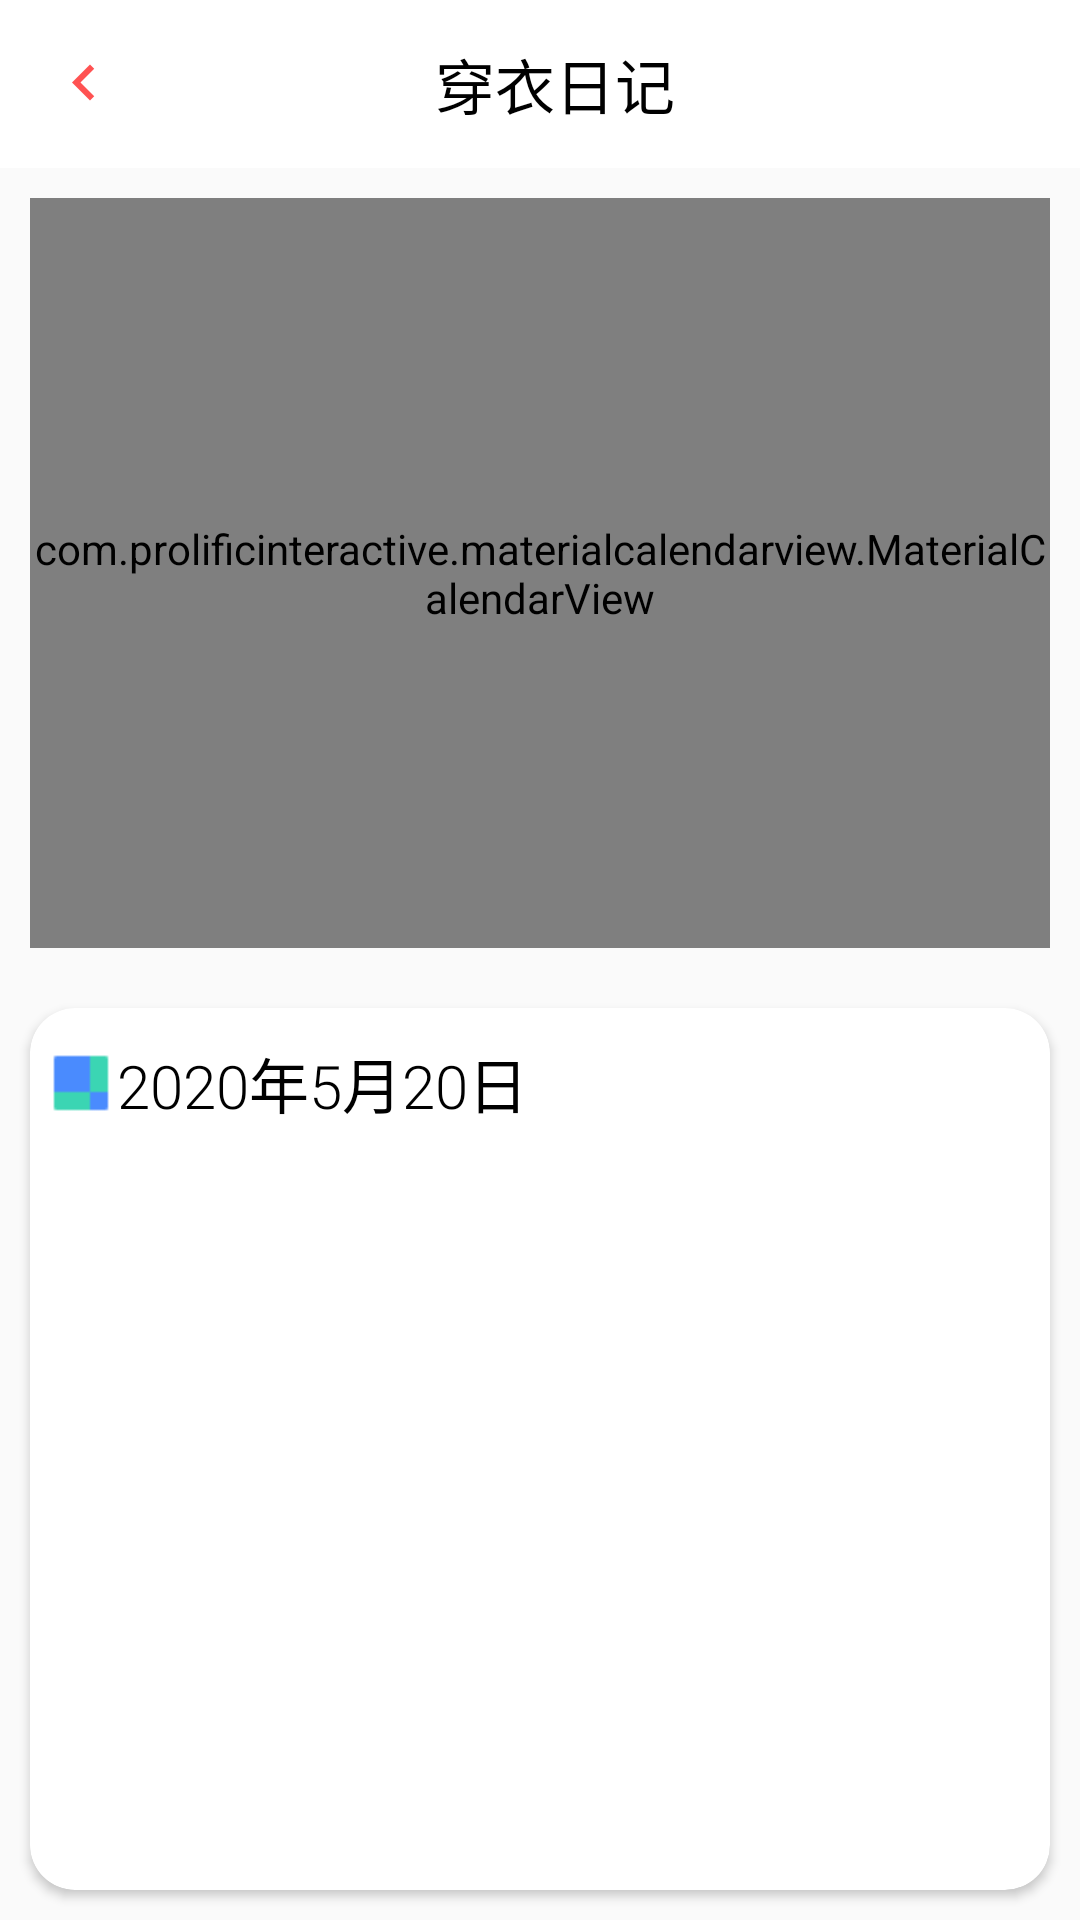

Where to tap for icons on this 1080x1920 app screen, as [x,y]:
back: [83,82]
